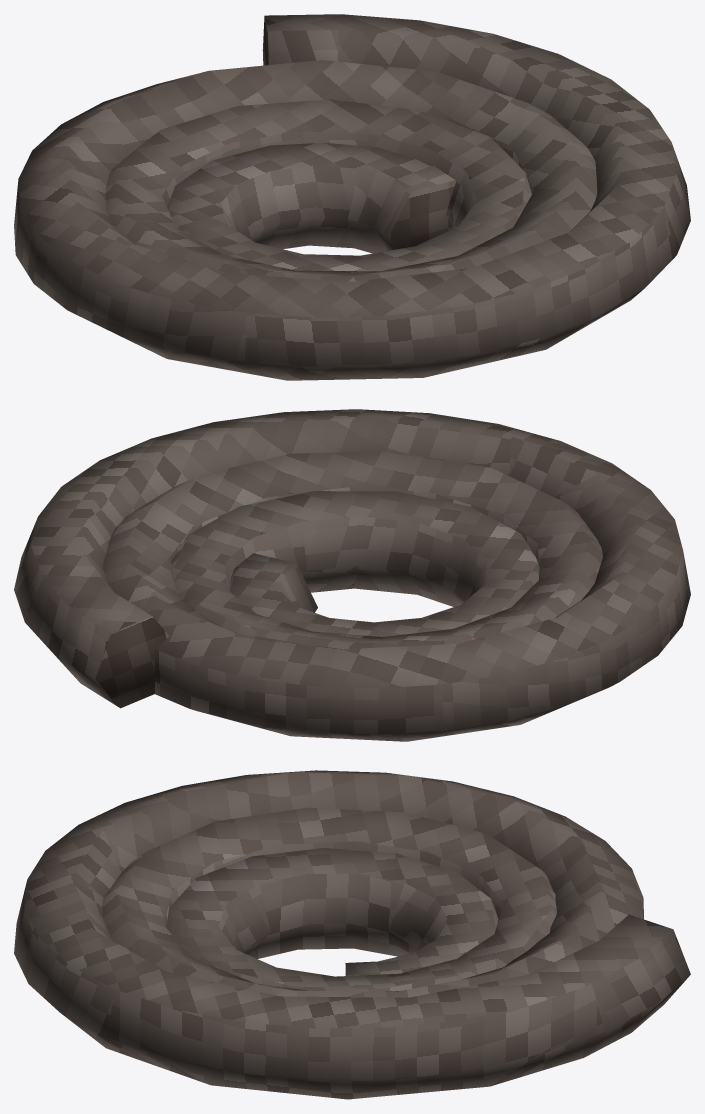
File: pellet_soba.glb
3 renders of one model, top to bottom at view 1: azimuth 30°, elevation 25°; view 2: azimuth 150°, elevation 25°; view 3: azimuth 270°, elevation 25°, orthographic. The views are drawn at different scales.
Parts seen in each view (by area): view 1: prop_pellet_soba_felt; view 2: prop_pellet_soba_felt; view 3: prop_pellet_soba_felt.
Part boxes in pixels (bbox=[...]): prop_pellet_soba_felt: bbox=[14, 14, 690, 380]; prop_pellet_soba_felt: bbox=[14, 409, 690, 741]; prop_pellet_soba_felt: bbox=[14, 770, 690, 1099].
Bounding box in the file's own units: 0.0761 × 0.0162 × 0.0774.
1 material, 1 textured.
